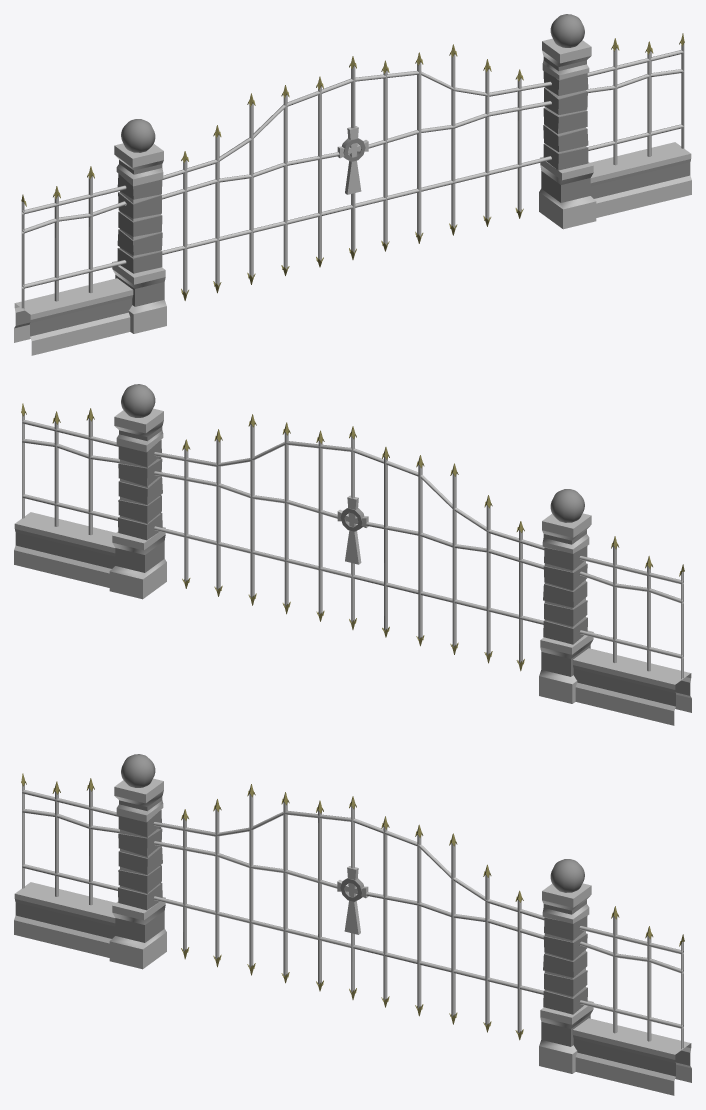
Rendered from Gate_Fancy_Mod_01.fbx.
3 renders of one model, top to bottom at view 1: azimuth 30°, elevation 25°; view 2: azimuth 150°, elevation 25°; view 3: azimuth 330°, elevation 25°, orthographic.
Parts seen in each view (by area): view 1: FenceLeft, FenceRight, GateLeft, GateRight; view 2: FenceRight, FenceLeft, GateLeft, GateRight; view 3: FenceRight, FenceLeft, GateLeft, GateRight.
Boxes of the visible parts, x1,y1,x2,y2 form: FenceLeft: [14, 119, 166, 355]; FenceRight: [539, 14, 691, 229]; GateLeft: [162, 56, 356, 300]; GateRight: [354, 44, 551, 251]; FenceRight: [14, 384, 166, 599]; FenceLeft: [539, 489, 691, 725]; GateLeft: [349, 426, 544, 671]; GateRight: [154, 414, 351, 621]; FenceRight: [539, 859, 691, 1095]; FenceLeft: [14, 754, 166, 969]; GateLeft: [153, 784, 356, 999]; GateRight: [351, 816, 544, 1040].
Bounding box in the file's own units: 10 × 3.08 × 0.6284.
